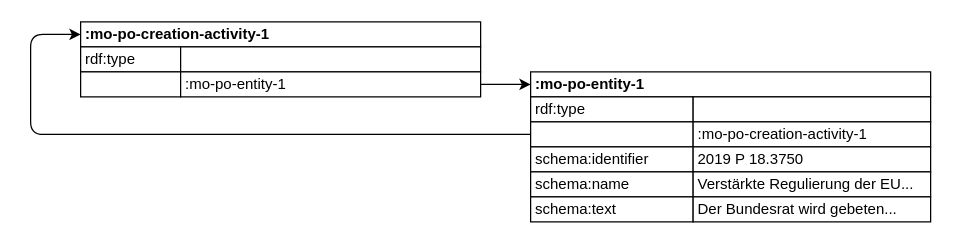
This 953x244 diagram has some shape labels left out. Each missing label, with the centre of its shape:
"ch-paf:MoPoCreationActivity" goes at (330,59).
"ch-paf:MoPoEntity" goes at (811,109).
"prov:used" goes at (130,84).
"prov:wasGeneratedBy" goes at (611,134).
